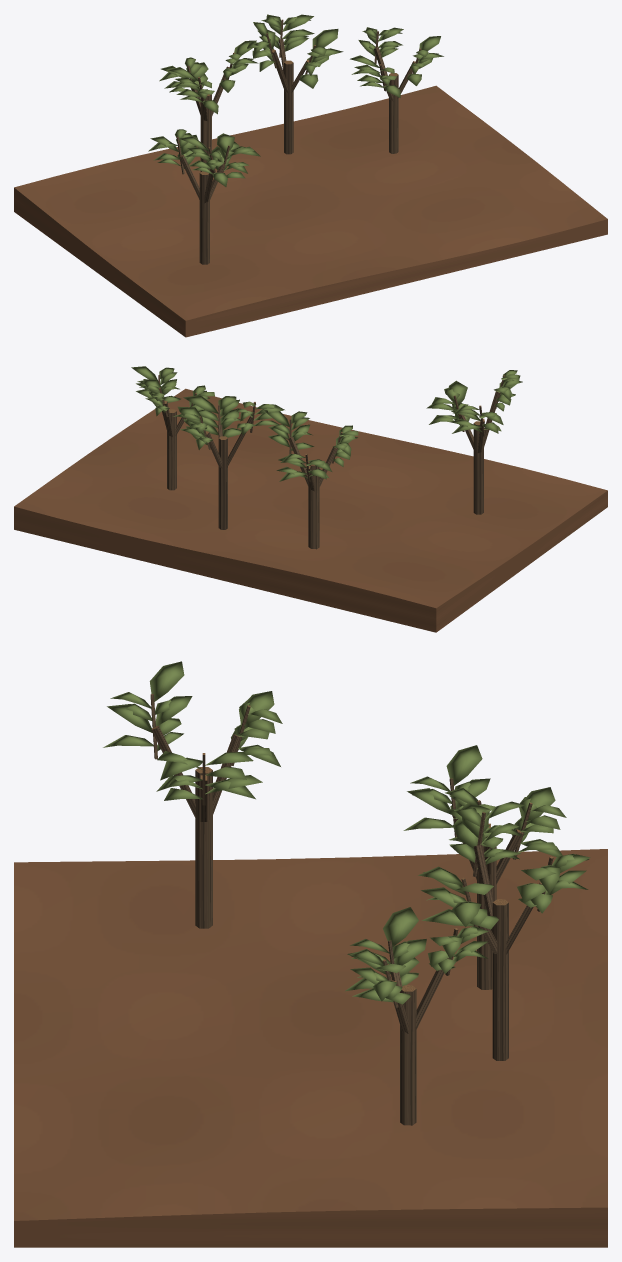
File: belgrade.glb
3 renders of one model, top to bottom at view 1: azimuth 30°, elevation 25°; view 2: azimuth 150°, elevation 25°; view 3: azimuth 270°, elevation 25°, orthographic. The views are drawn at different scales.
Visible parts, largest first — view 1: belgrade; view 2: belgrade; view 3: belgrade.
Part boxes in pixels (x1,y1,x2,y2): belgrade: (14,14,607,337); belgrade: (14,366,607,632); belgrade: (14,661,607,1247).
Bounding box in the file's own units: 6.8 × 2.4 × 4.79.
1 material, 1 textured.
